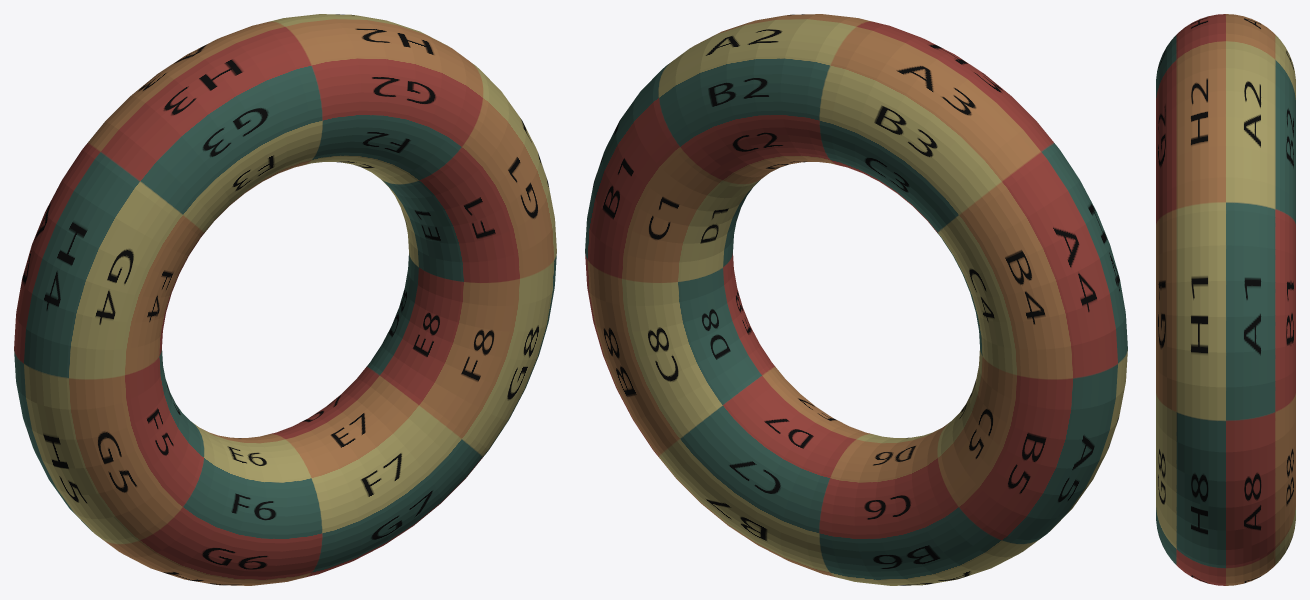
Rendered from texture_torus_R30_r29.glb.
3 views of the same model, side by side, from view 1: azimuth 30°, elevation 25°; view 2: azimuth 150°, elevation 25°; view 3: azimuth 270°, elevation 25° (orthographic). The views are drawn at different scales.
Parts seen in each view (by area): view 1: world; view 2: world; view 3: world.
Part boxes in pixels (left/top/right/bottom): world: left=14, top=14, right=556, bottom=585; world: left=585, top=14, right=1127, bottom=585; world: left=1156, top=14, right=1295, bottom=585.
Bounding box in the file's own units: 39.73 × 39.65 × 9.71.
Materials: 1 (1 with a texture image).
